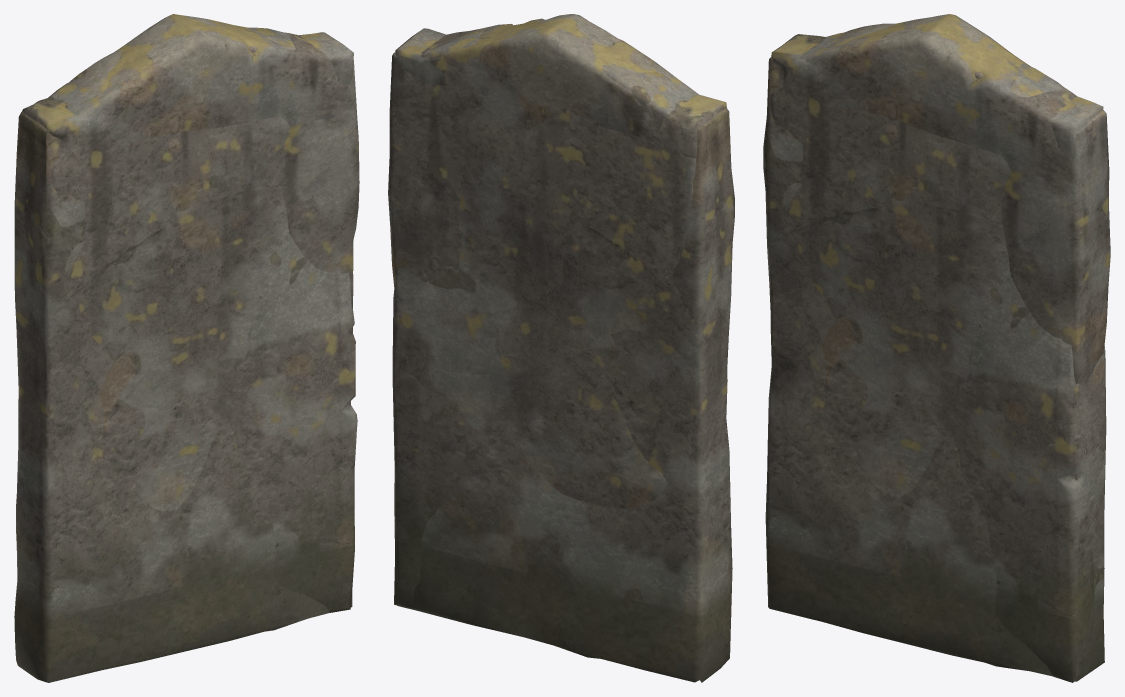
File: tallShoulder.glb
3 views of the same model, side by side, from view 1: azimuth 30°, elevation 25°; view 2: azimuth 150°, elevation 25°; view 3: azimuth 330°, elevation 25° (orthographic).
Parts seen in each view (by area): view 1: tallShoulder_b, tallShoulder_a; view 2: tallShoulder_b, tallShoulder_a; view 3: tallShoulder_a, tallShoulder_b.
Boxes of the visible parts, x1,y1,x2,y2 form: tallShoulder_b: (14,14,359,682); tallShoulder_a: (22,27,357,612); tallShoulder_b: (388,14,734,682); tallShoulder_a: (392,27,726,608); tallShoulder_a: (770,23,1106,682); tallShoulder_b: (763,14,1110,681).
Size of the model in its own units: 0.7414 by 1.36 by 0.145.
2 materials, 2 textured.
